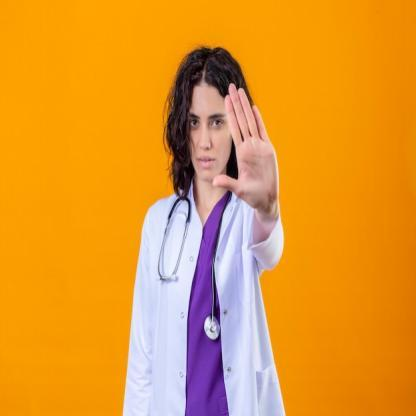stop: (210, 80, 281, 208)
